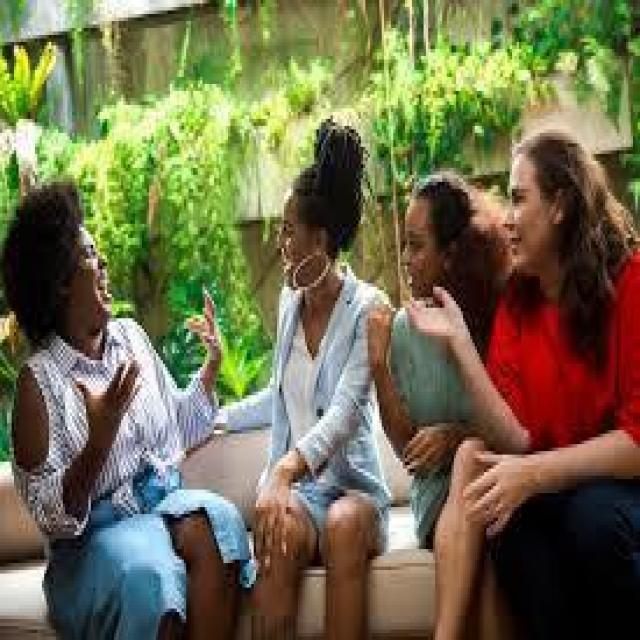person: (398, 115, 638, 605), (0, 157, 230, 615), (228, 70, 386, 622), (374, 158, 510, 636)
